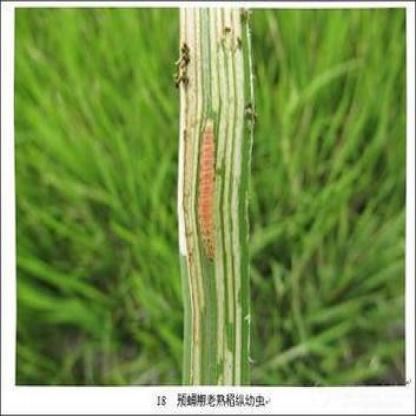leaf-folder: (192, 112, 226, 276)
